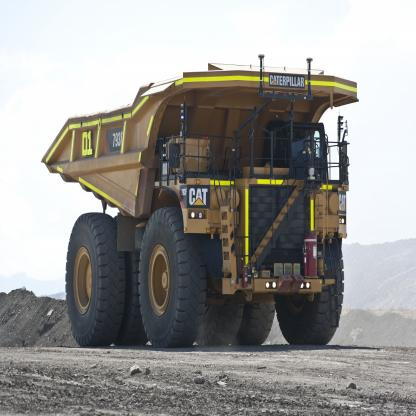dump_truck: (38, 59, 363, 349)
